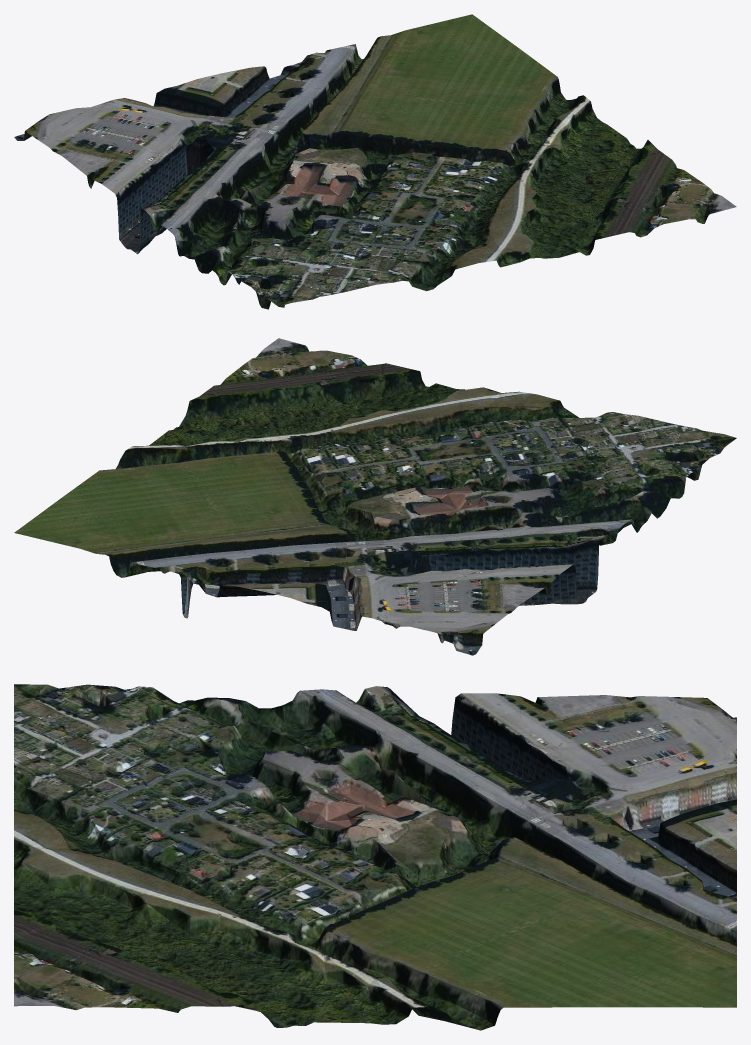
File: map_13_2044_3446.dae
3 renders of one model, top to bottom at view 1: azimuth 30°, elevation 25°; view 2: azimuth 150°, elevation 25°; view 3: azimuth 270°, elevation 25°, orthographic. The views are drawn at different scales.
Visible parts, largest first — view 1: Ter0; view 2: Ter0; view 3: Ter0.
Part boxes in pixels (<box>): Ter0: <box>14,14,736,309</box>; Ter0: <box>14,338,736,655</box>; Ter0: <box>14,684,736,1030</box>.
Bounding box in the file's own units: 256 × 256 × 30.4.
3 materials, 3 textured.
